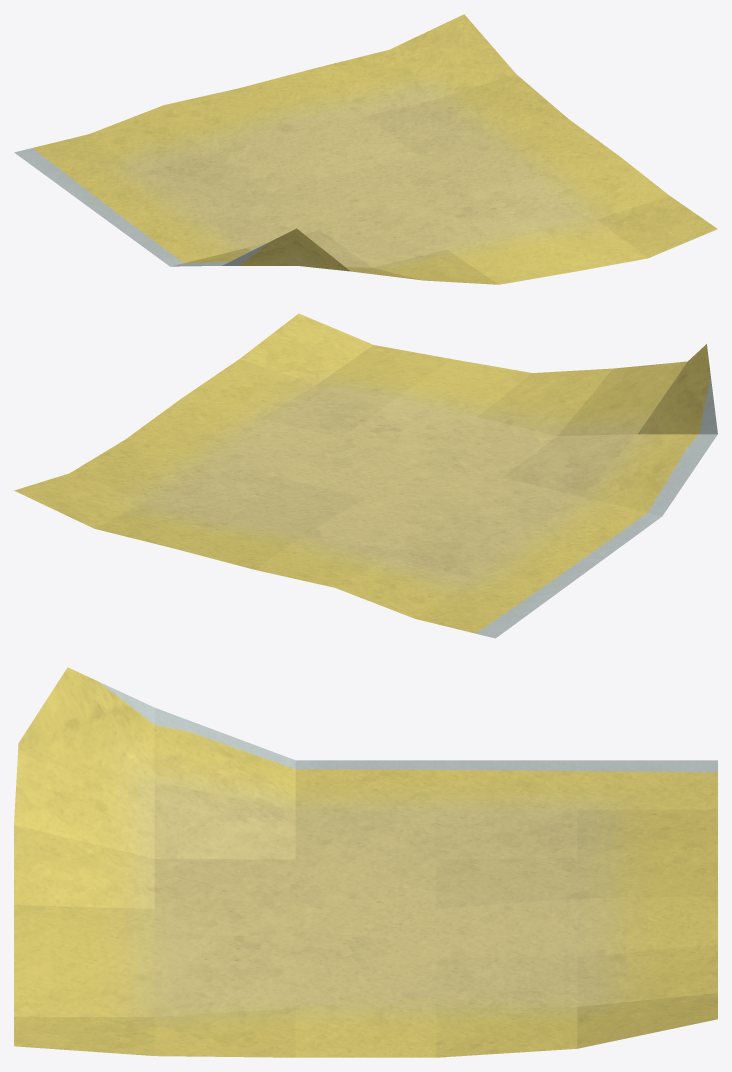
3 renders of one model, top to bottom at view 1: azimuth 30°, elevation 25°; view 2: azimuth 150°, elevation 25°; view 3: azimuth 270°, elevation 25°, orthographic. The views are drawn at different scales.
Parts seen in each view (by area): view 1: SM_post_it_notes.002; view 2: SM_post_it_notes.002; view 3: SM_post_it_notes.002.
Part boxes in pixels (<box>): SM_post_it_notes.002: <box>14,14,717,284</box>; SM_post_it_notes.002: <box>14,313,717,638</box>; SM_post_it_notes.002: <box>14,667,717,1057</box>.
Bounding box in the file's own units: 7.6 × 1.56 × 7.6.
